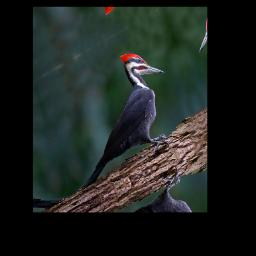Woodpecker: (41, 37, 187, 204)
